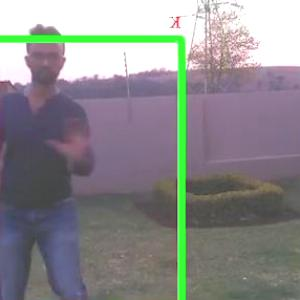follow_hand: (47, 113, 100, 167)
